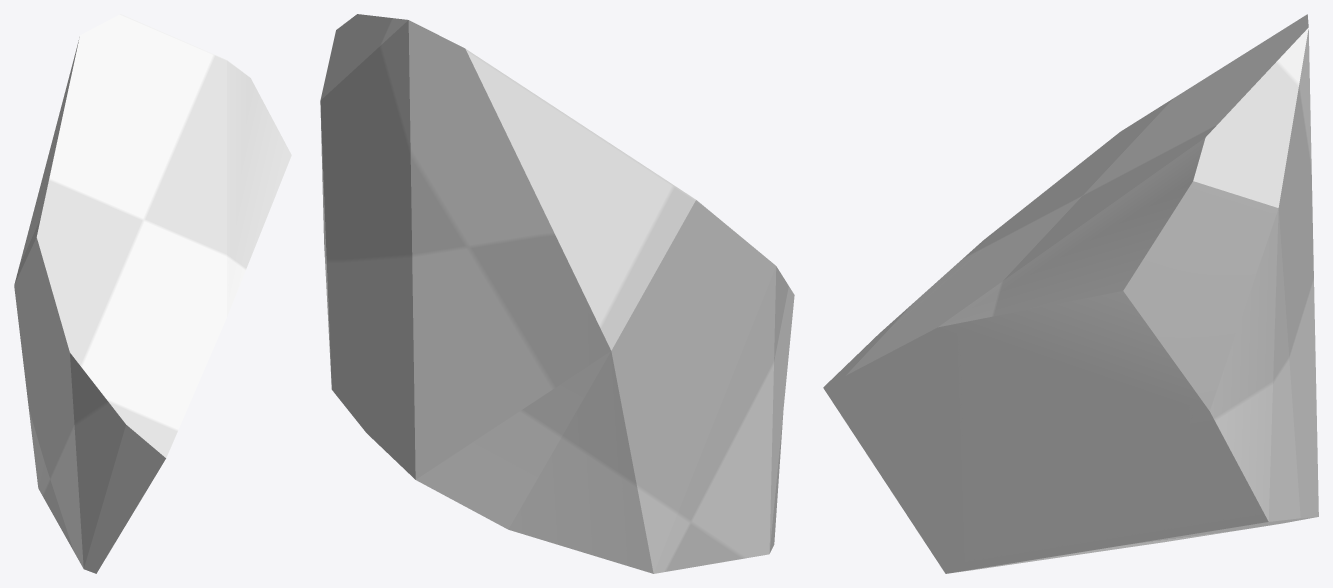
Rendered from Project04.glb.
3 views of the same model, side by side, from view 1: azimuth 30°, elevation 25°; view 2: azimuth 150°, elevation 25°; view 3: azimuth 270°, elevation 25° (orthographic). The views are drawn at different scales.
Parts seen in each view (by area): view 1: 04System; view 2: 04System; view 3: 04System.
Boxes of the visible parts, x1=… form: 04System: x1=14, y1=14, x2=291, y2=573; 04System: x1=320, y1=14, x2=794, y2=573; 04System: x1=823, y1=14, x2=1318, y2=573.
Size of the model in its own units: 1.3 by 2.02 by 1.39.
2 materials, 1 textured.
